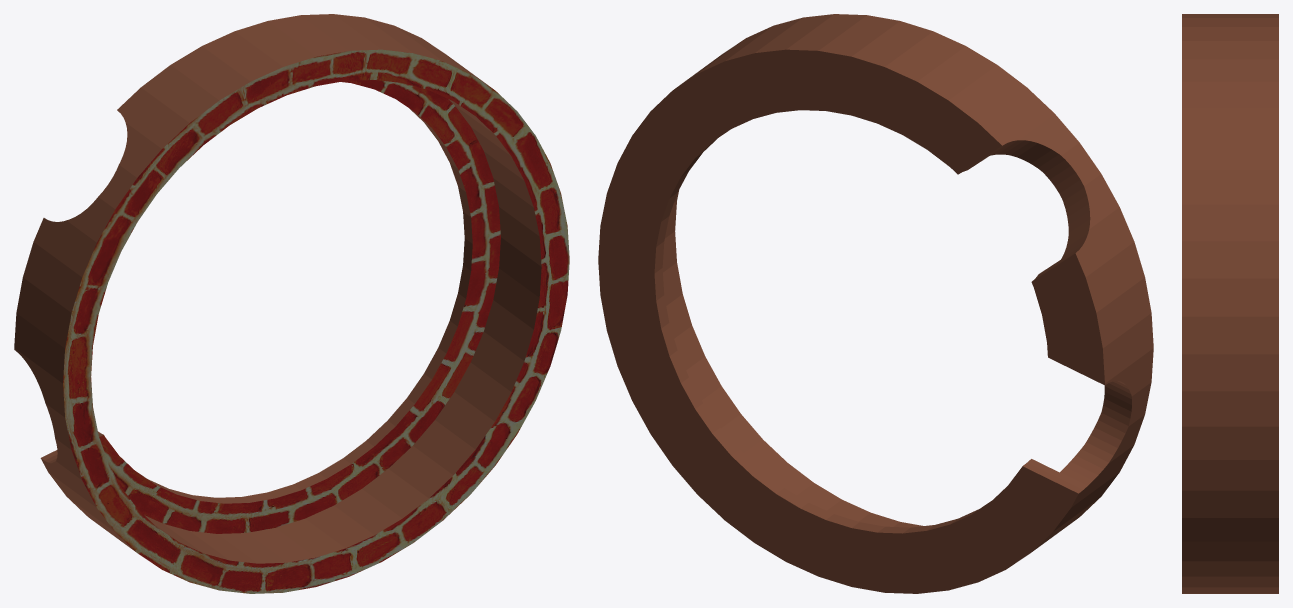
File: pool_011.obj
3 views of the same model, side by side, from view 1: azimuth 30°, elevation 25°; view 2: azimuth 150°, elevation 25°; view 3: azimuth 270°, elevation 25° (orthographic).
Bounding box in the file's own units: 18 × 18 × 3.
